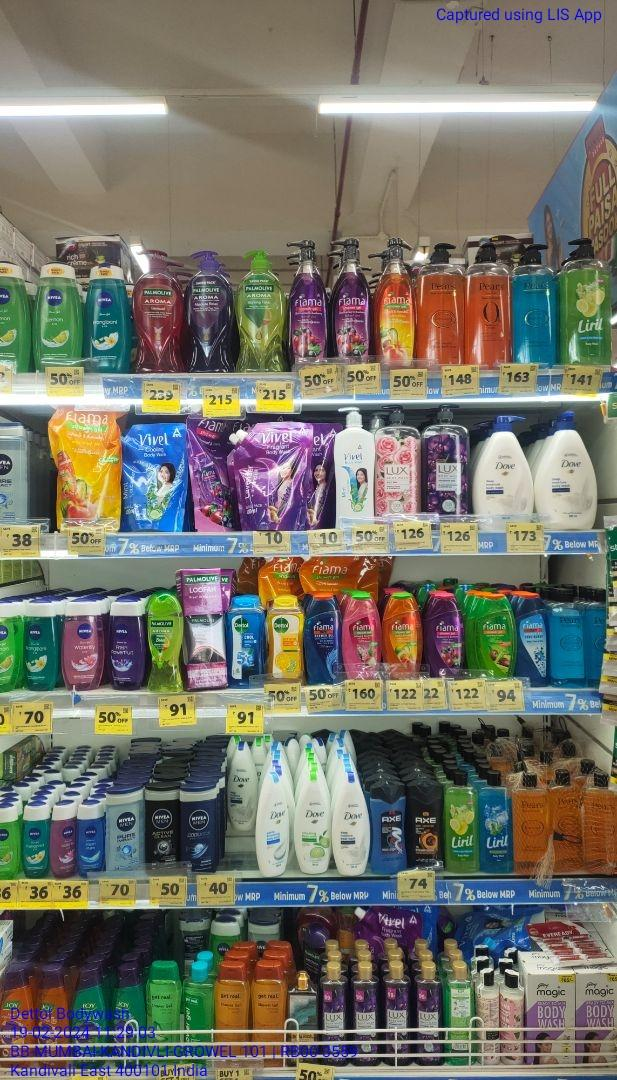Dettol_Bodywash_Cool: (230, 597, 264, 684)
Dettol_Bodywash_Refresh: (263, 593, 304, 681)
Dove_Deep_Moisture_Body_Wash_250ML: (332, 764, 370, 874)
Dove_Gentle_Exfoliating_Body_Wash_250ML: (253, 769, 292, 882)
Dove_Refreshing_Body_Wash_250ML: (295, 773, 327, 874)
Fiama_Shower_Gel_Lemongrass_and_Jojoba_250ML: (470, 593, 513, 678)
Fiama_Shower_Gel_Patchouli_and_Macadamia_250ML: (344, 596, 382, 683)
Fiama_Shower_Gel_Peach_and_Avocado_250ML: (384, 589, 421, 681)
Liril_Cooling_Mint_Body_Wash_250ML: (479, 770, 515, 874)
Liril_Lime_and_Tea_Tree_Oil_Body_Wash_250ML: (447, 766, 480, 875)
Lux_Black_Orchid_Scent_and_Juniper_Oil_Body_Wash_245ML: (381, 963, 412, 1067), (351, 963, 381, 1066), (416, 961, 443, 1065), (325, 961, 348, 1070)
Nivea_Shower_Gel_Frangipani_and_Oil_250ML: (21, 603, 58, 690), (22, 801, 50, 878)
Nivea_Shower_Gel_Waterlily_and_Oil_250ML: (62, 595, 101, 691), (50, 800, 76, 878)
Palmolive_Aroma_Morning_Tonic_Shower_Gel_250ML: (145, 593, 180, 692)
